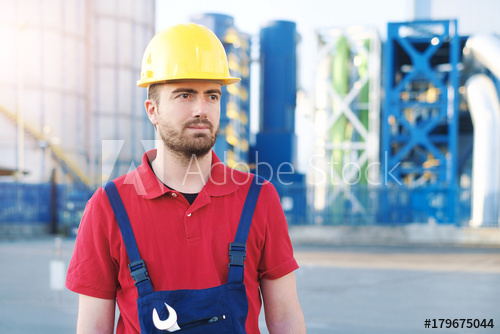Person_wearing_helmet: (128, 12, 241, 102)
